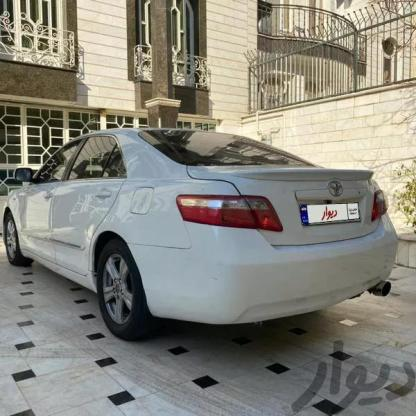Car: (0, 125, 400, 336)
